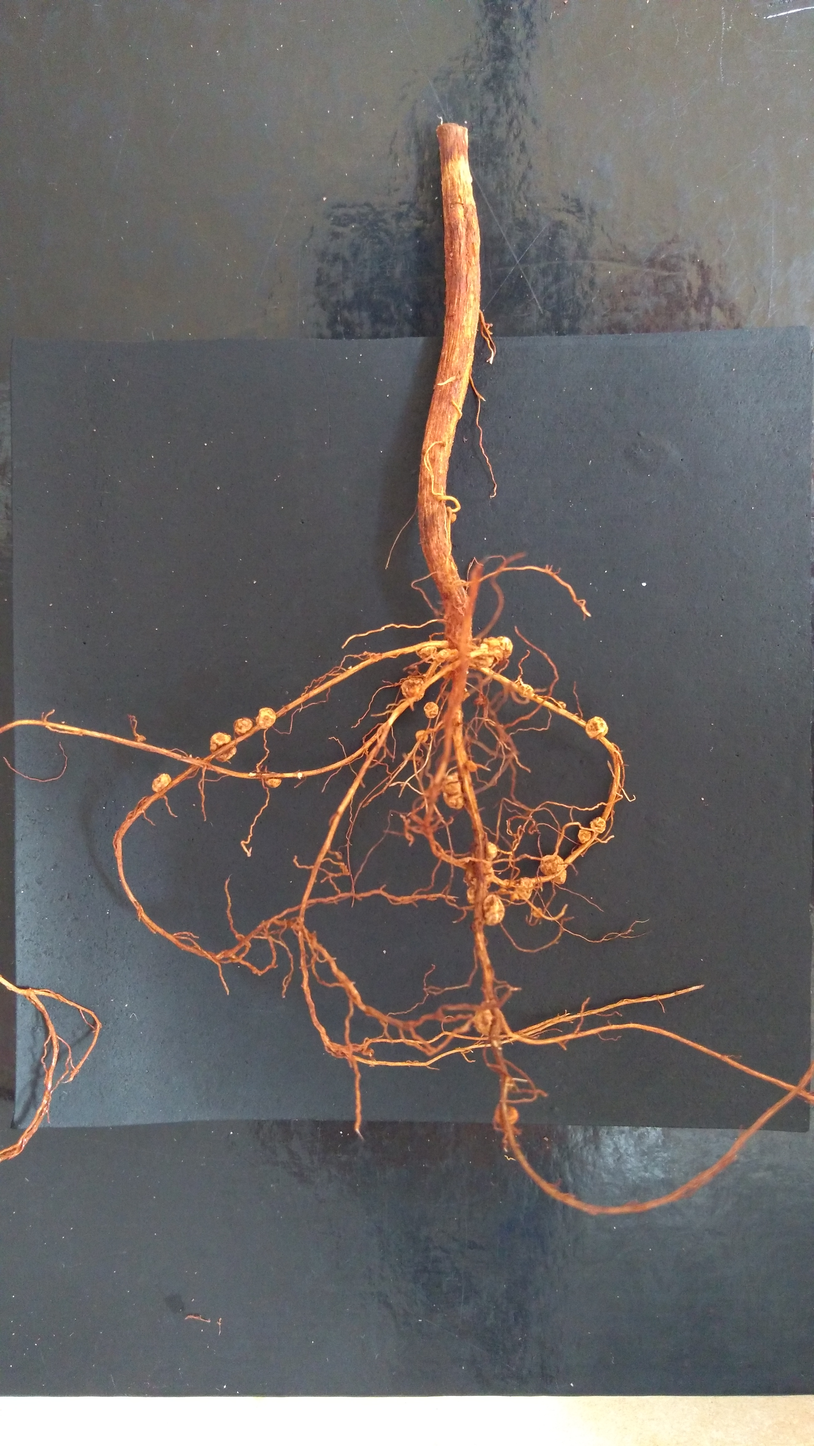nodule: (208, 730, 238, 763), (463, 858, 494, 889), (539, 853, 568, 886), (481, 891, 506, 929), (493, 1100, 520, 1130), (470, 1006, 494, 1038), (400, 675, 426, 703), (253, 706, 279, 732), (584, 715, 610, 741), (438, 770, 462, 797), (473, 643, 495, 670), (441, 790, 467, 811), (150, 772, 174, 794), (495, 634, 514, 661), (480, 635, 502, 657), (232, 714, 254, 735), (467, 884, 488, 903), (588, 815, 607, 834), (263, 771, 283, 789), (517, 877, 533, 899), (422, 701, 440, 719), (516, 683, 535, 700), (484, 841, 498, 863), (418, 644, 438, 659), (577, 828, 592, 845), (433, 649, 450, 664), (414, 728, 429, 744), (444, 647, 459, 662), (464, 759, 478, 773), (530, 905, 543, 919), (553, 699, 567, 710), (449, 511, 458, 525)
